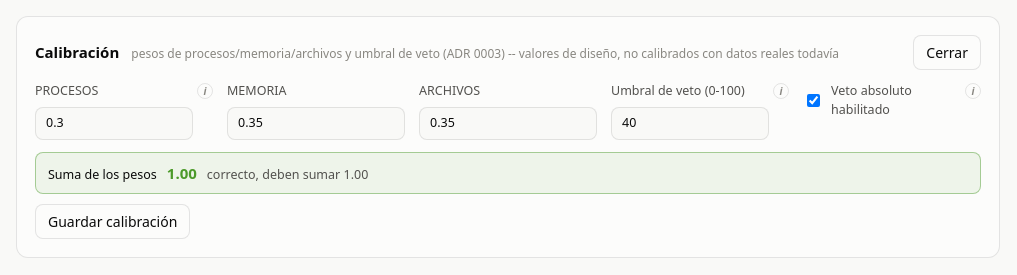
Test: CalibracionPanel › avisa cuanto SOBRA, no solo que la suma esta mal
Replace the text in the number field labelled "PROCESOS" with "0.5" at (114, 123), box [35, 107, 193, 140]
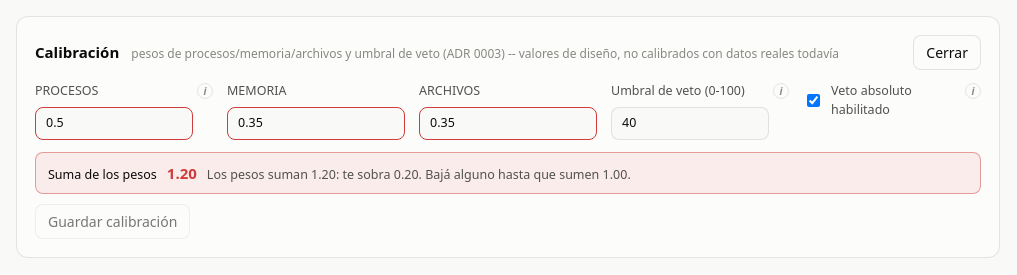
Expected: the text "te sobra 0.20" is shown, [207, 166, 631, 182]
